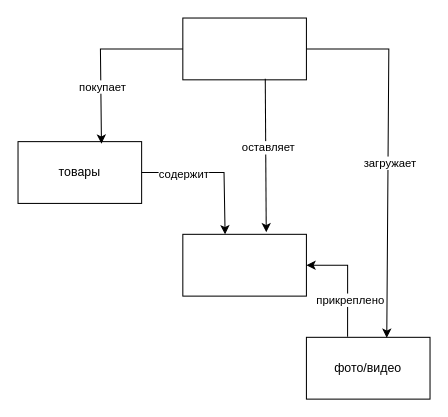
The diagram is 448 pixels wide and 417 high, and some of its shapes have lost their labels. Each missing label, with the centre of its shape:
"User" belongs at pixel 244 48.
"отзывы" belongs at pixel 244 264.
